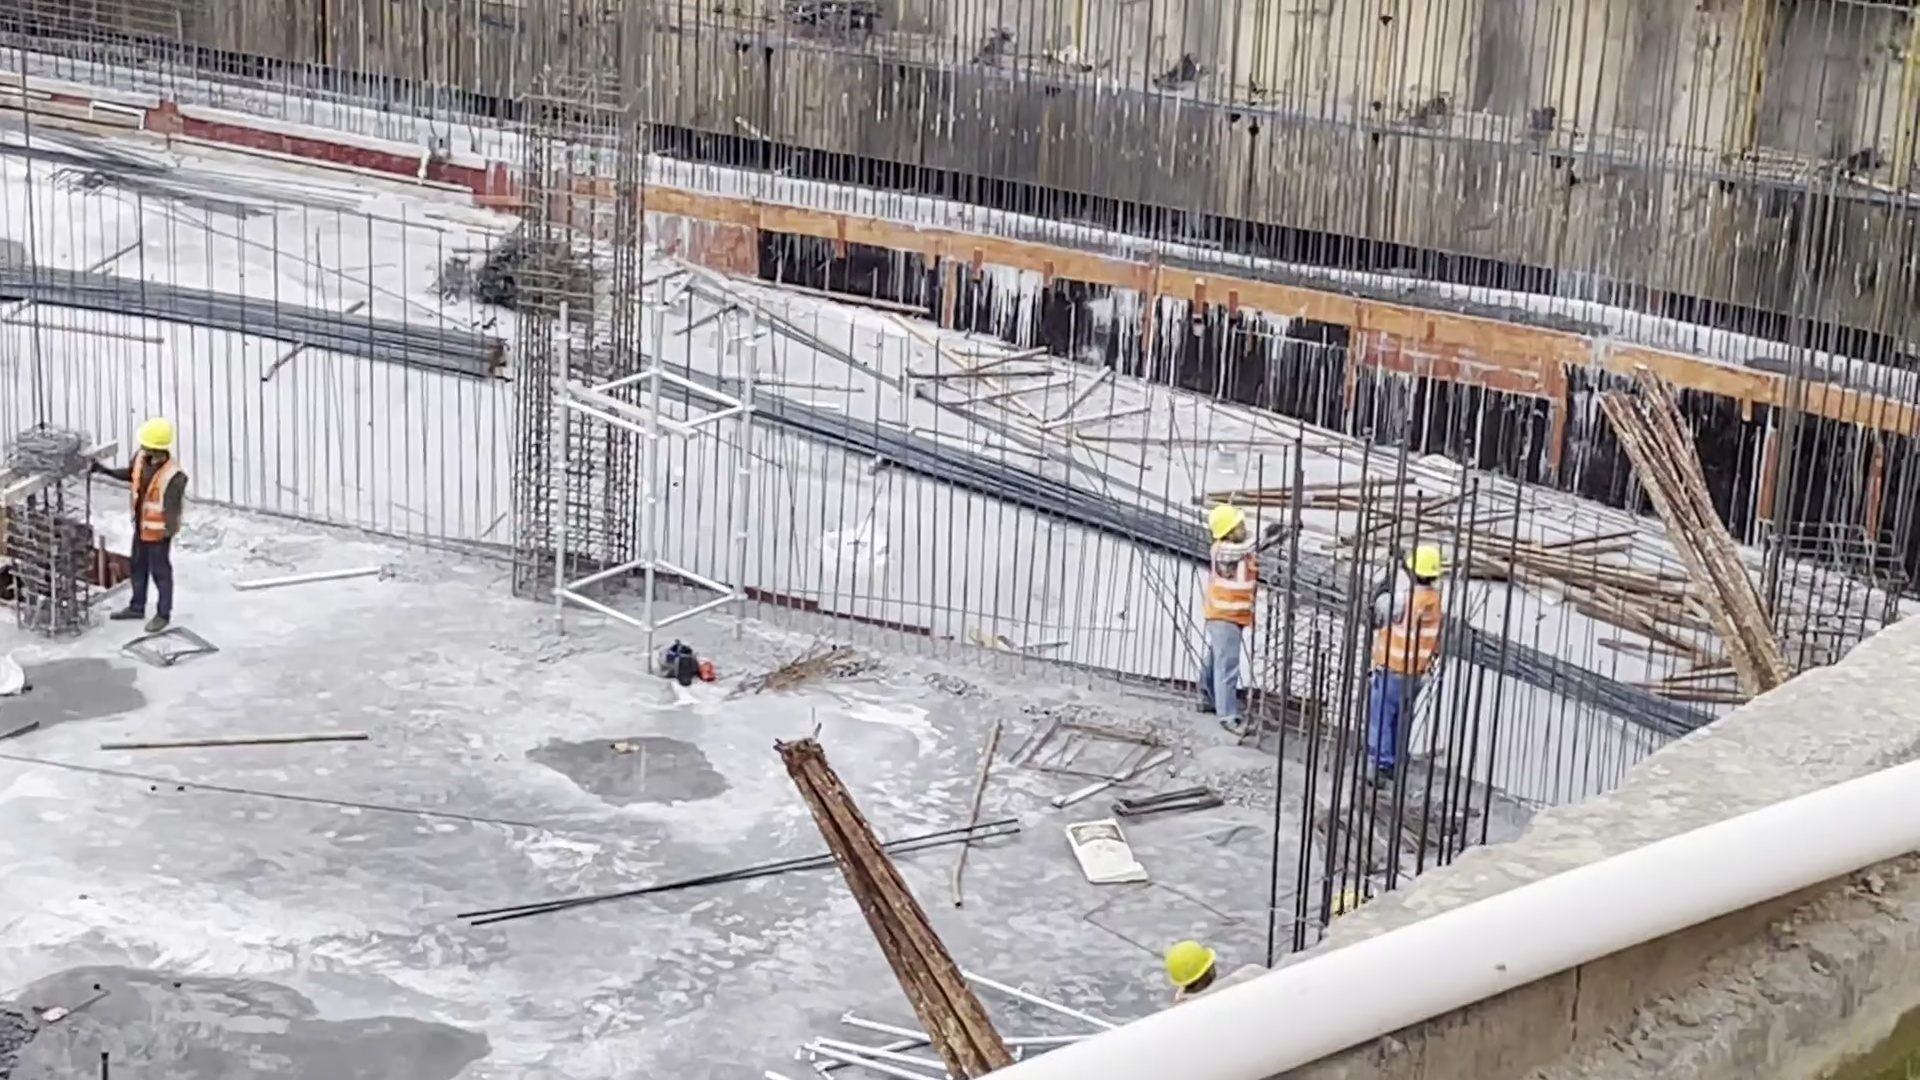helmet: (1159, 936, 1220, 981), (1408, 545, 1453, 585), (129, 421, 179, 455), (1204, 508, 1249, 539)
person: (1371, 531, 1449, 817), (1199, 498, 1279, 738), (119, 405, 179, 632)
rebar: (678, 346, 1192, 565), (38, 226, 506, 385)
vest: (1203, 545, 1267, 627), (1390, 586, 1442, 685), (120, 463, 178, 540)
